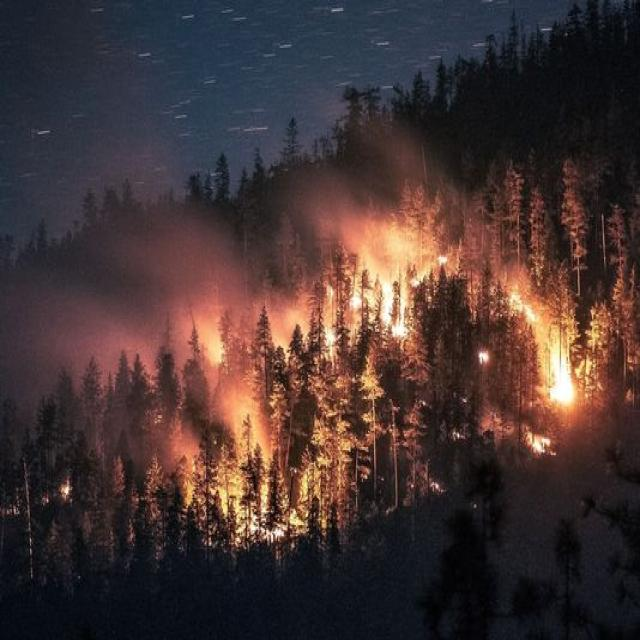Fire: (48, 192, 587, 547)
